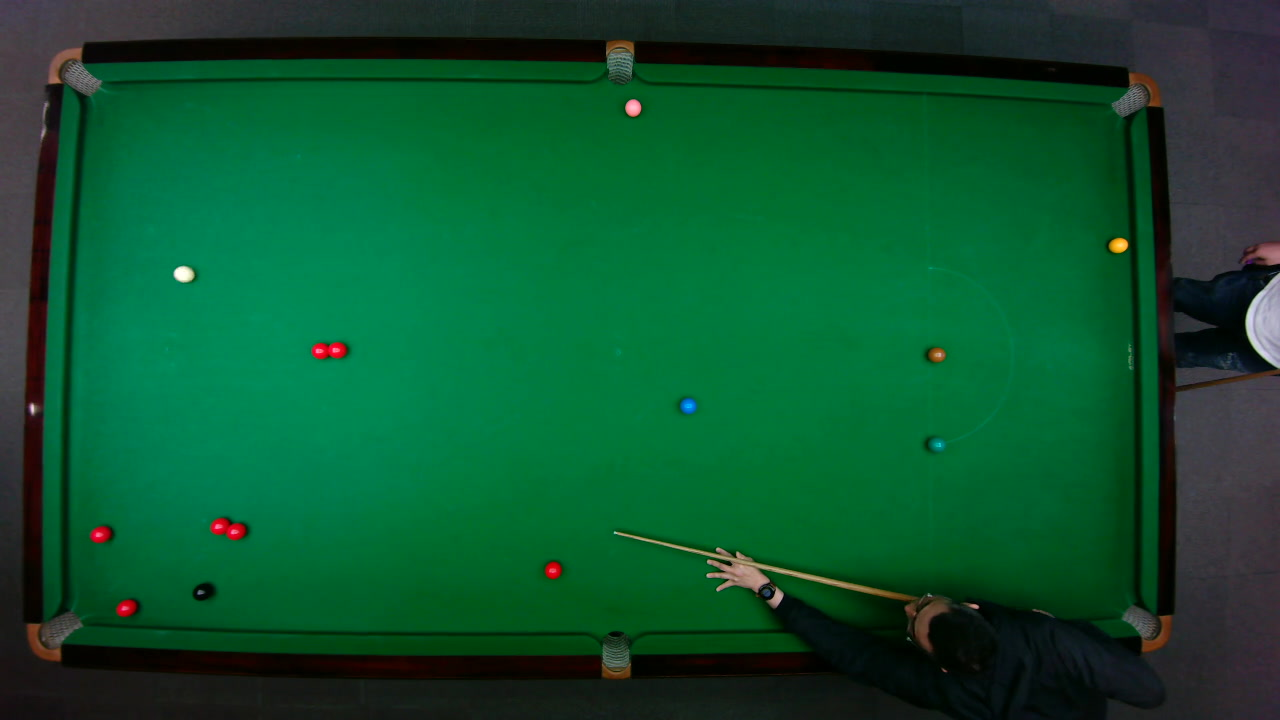bag: (25, 609, 83, 661), (45, 46, 102, 96), (1119, 603, 1172, 651), (1108, 71, 1161, 117), (600, 629, 630, 679), (605, 39, 633, 85)
black: (191, 582, 212, 601)
blue: (678, 396, 697, 414)
brown: (926, 346, 945, 362)
cue: (611, 528, 919, 605)
green: (926, 435, 945, 452)
pink: (623, 97, 642, 117)
red: (88, 524, 112, 543), (208, 516, 230, 536), (115, 597, 137, 617), (224, 521, 247, 540), (324, 340, 347, 359), (543, 559, 562, 579), (310, 341, 330, 359)
white: (171, 264, 196, 282)
yellow: (1107, 235, 1129, 253)
zone: (926, 265, 1013, 445)
